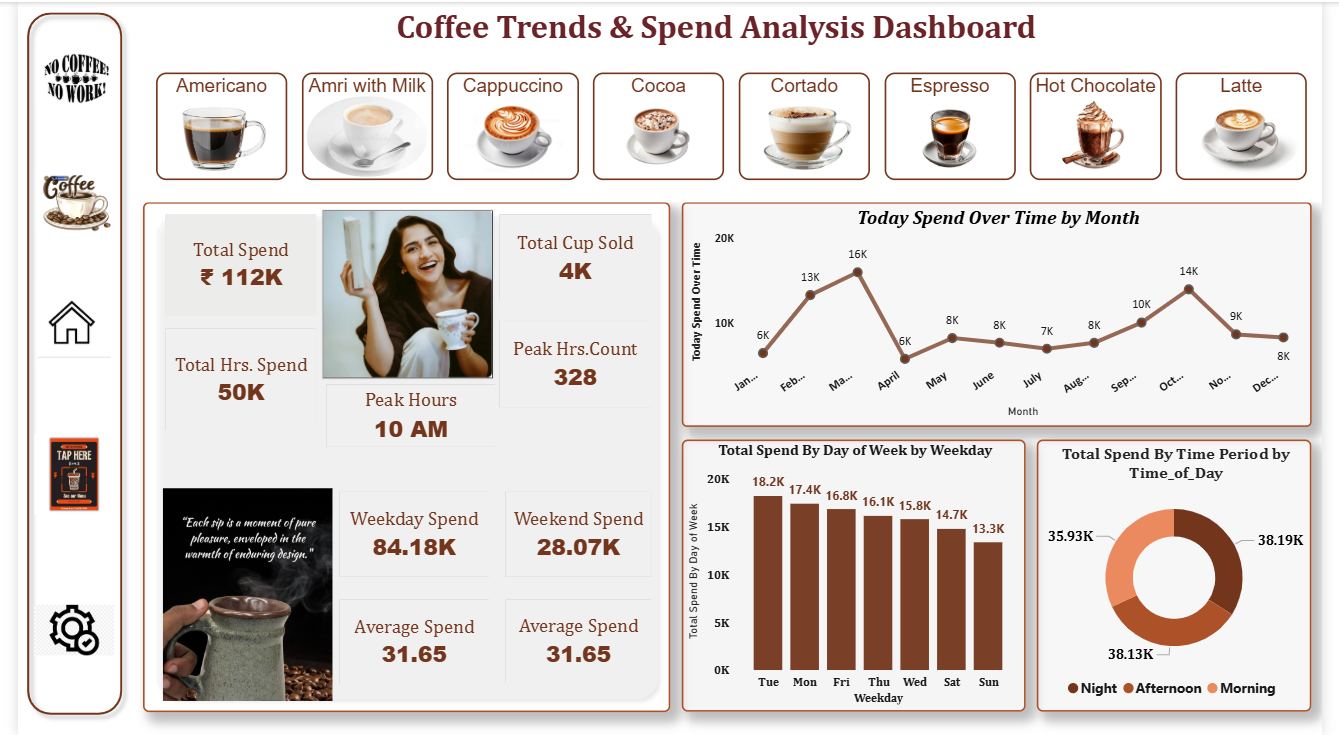

The page's visual inventory and layout, read from the dashboard file:
{"tool":"powerbi","page":{"name":"Coffee_spend_DA","canvas":[1280,720],"ordinal":0},"visuals":[{"type":"textbox","box":[298.2,0,774.2,62.6],"z":0},{"type":"shape","box":[122.7,196.3,517.8,500.6],"z":1000},{"type":"image","box":[298.2,203.7,169.3,166.9],"z":2000},{"type":"image","box":[139.9,477.3,170.6,208.6],"z":3000},{"type":"cardVisual","fields":{"Data":["Coffe_sales_project.Total Spend"]},"box":[139.9,203.7,158.3,109.2],"z":4000},{"type":"lineChart","fields":{"Category":["Coffe_sales_project.Date.Variation.Date Hierarchy.Month"],"Y":["Sum(Coffe_sales_project.money)"]},"box":[651.5,196.3,618.4,220.9],"z":5000},{"type":"columnChart","fields":{"Category":["Coffe_sales_project.Weekday"],"Y":["Sum(Coffe_sales_project.money)"]},"box":[651.5,429.5,337.4,267.5],"z":6000},{"type":"donutChart","fields":{"Category":["Coffe_sales_project.Time_of_Day"],"Y":["Sum(Coffe_sales_project.money)"]},"box":[1000,429.5,269.9,267.5],"z":7000},{"type":"shape","box":[0,1.2,111.2,707.5],"z":8000},{"type":"image","box":[18.4,272.4,73.6,85.9],"z":9000},{"type":"cardVisual","fields":{"Data":["Coffe_sales_project.Total Hrs. Spend"]},"box":[139.9,315.3,158.3,110.4],"z":10000},{"type":"cardVisual","fields":{"Data":["Coffe_sales_project.Peak Hours"]},"box":[298.2,370.6,175.5,71.2],"z":11000},{"type":"cardVisual","fields":{"Data":["Coffe_sales_project.Total Cup Sold"]},"box":[467.5,203.7,159.5,95.7],"z":12000},{"type":"cardVisual","fields":{"Data":["Coffe_sales_project.Peak Hrs.Count"]},"box":[467.5,308,159.5,95.7],"z":13000},{"type":"cardVisual","fields":{"Data":["Coffe_sales_project.Weekday Spend"]},"box":[310.4,476.1,157.1,93.3],"z":14000},{"type":"cardVisual","fields":{"Data":["Coffe_sales_project.Weekend Spend"]},"box":[473.6,476.1,153.4,93.3],"z":15000},{"type":"cardVisual","fields":{"Data":["Coffe_sales_project.Average Spend"]},"box":[310.4,581.6,157.1,93.3],"z":16000},{"type":"cardVisual","fields":{"Data":["Coffe_sales_project.Average Spend"]},"box":[473.6,581.6,153.4,92],"z":17000},{"type":"image","box":[18.4,30.7,78.5,88.3],"z":18000},{"type":"image","box":[16,398.8,78.5,130.1],"z":19000},{"type":"image","box":[16,569.3,78.5,94.5],"z":20000},{"type":"image","box":[18.4,119,78.5,154.6],"z":21000},{"type":"ChicletSlicer1448559807354","fields":{"Category":["Coffe_sales_project.coffee_name"],"Image":["Coffee_image_link.Image_link"]},"box":[122.7,56.4,1157.1,139.9],"z":22000}]}

Visuals, with their boxes in screenshot pixels (x1, y1, x2, y2), scaled from the page's 1280x720 canvas onto the 1339x735 screenshot:
textbox: region(312, 0, 1122, 64)
shape: region(128, 200, 670, 711)
image: region(312, 208, 489, 378)
image: region(146, 487, 325, 700)
cardVisual - Coffe_sales_project.Total Spend: region(146, 208, 312, 319)
lineChart - Coffe_sales_project.Date.Variation.Date Hierarchy.Month x Sum(Coffe_sales_project.money): region(682, 200, 1328, 426)
columnChart - Coffe_sales_project.Weekday x Sum(Coffe_sales_project.money): region(682, 438, 1034, 712)
donutChart - Coffe_sales_project.Time_of_Day x Sum(Coffe_sales_project.money): region(1046, 438, 1328, 712)
shape: region(0, 1, 116, 723)
image: region(19, 278, 96, 366)
cardVisual - Coffe_sales_project.Total Hrs. Spend: region(146, 322, 312, 435)
cardVisual - Coffe_sales_project.Peak Hours: region(312, 378, 496, 451)
cardVisual - Coffe_sales_project.Total Cup Sold: region(489, 208, 656, 306)
cardVisual - Coffe_sales_project.Peak Hrs.Count: region(489, 314, 656, 412)
cardVisual - Coffe_sales_project.Weekday Spend: region(325, 486, 489, 581)
cardVisual - Coffe_sales_project.Weekend Spend: region(495, 486, 656, 581)
cardVisual - Coffe_sales_project.Average Spend: region(325, 594, 489, 689)
cardVisual - Coffe_sales_project.Average Spend: region(495, 594, 656, 688)
image: region(19, 31, 101, 121)
image: region(17, 407, 99, 540)
image: region(17, 581, 99, 678)
image: region(19, 121, 101, 279)
ChicletSlicer1448559807354 - Coffe_sales_project.coffee_name x Coffee_image_link.Image_link: region(128, 58, 1338, 200)
